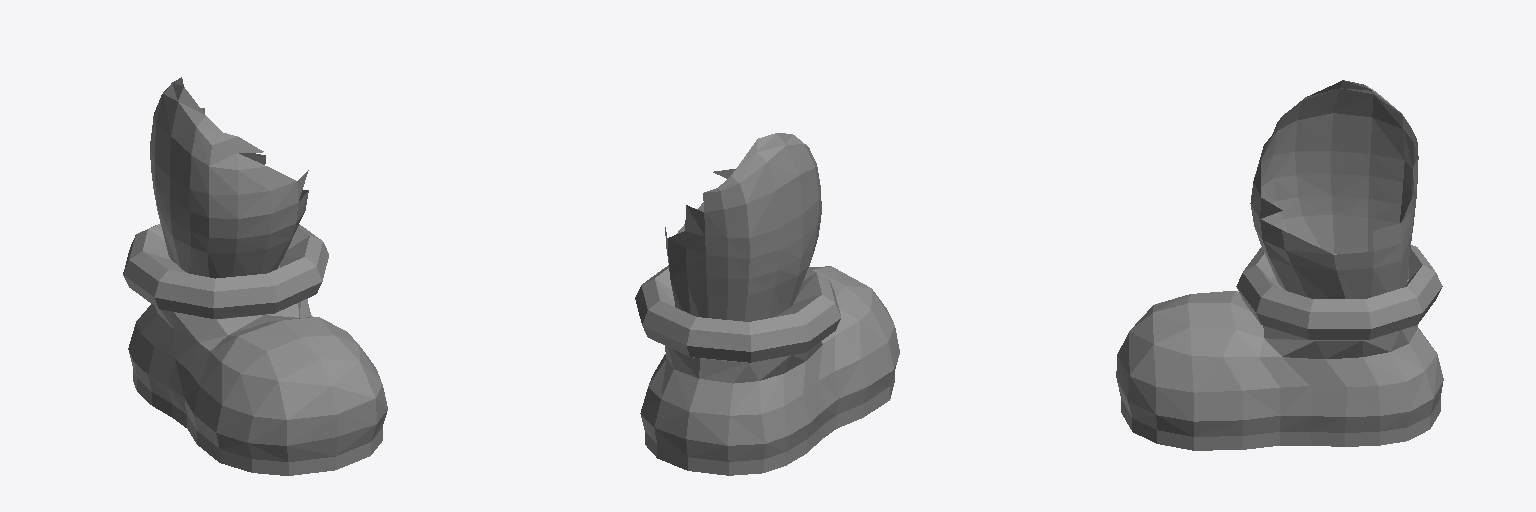
Rendered from YoshiPataD.obj.
The picture shows the model from 3 angles: view 1: azimuth 30°, elevation 25°; view 2: azimuth 150°, elevation 25°; view 3: azimuth 270°, elevation 25°; orthographic projection.
Parts seen in each view (by area): view 1: YoshiPataD; view 2: YoshiPataD; view 3: YoshiPataD.
Part boxes in pixels (x1,y1,x2,y2): YoshiPataD: (123,77,387,475); YoshiPataD: (635,133,899,475); YoshiPataD: (1116,80,1443,450).
Bounding box in the file's own units: 0.3994 × 0.6817 × 0.648.